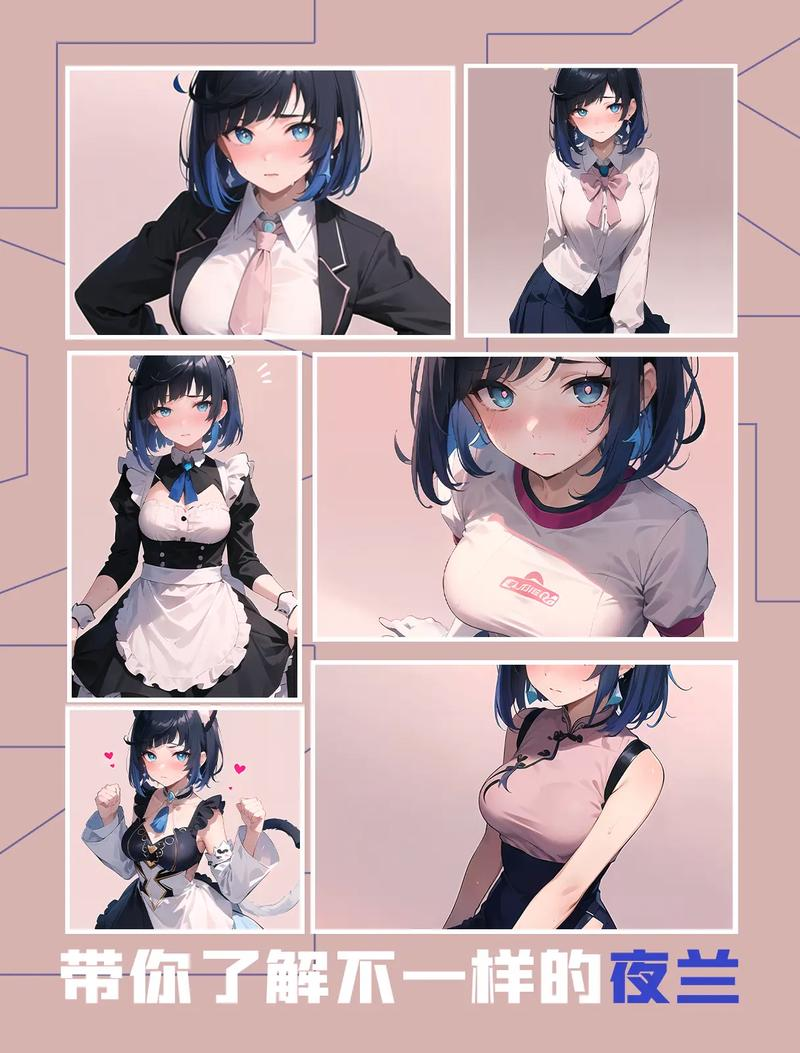夜兰: (381, 351, 718, 643), (77, 75, 446, 334), (445, 659, 714, 939), (75, 352, 294, 693), (517, 69, 693, 335), (86, 714, 282, 925)
